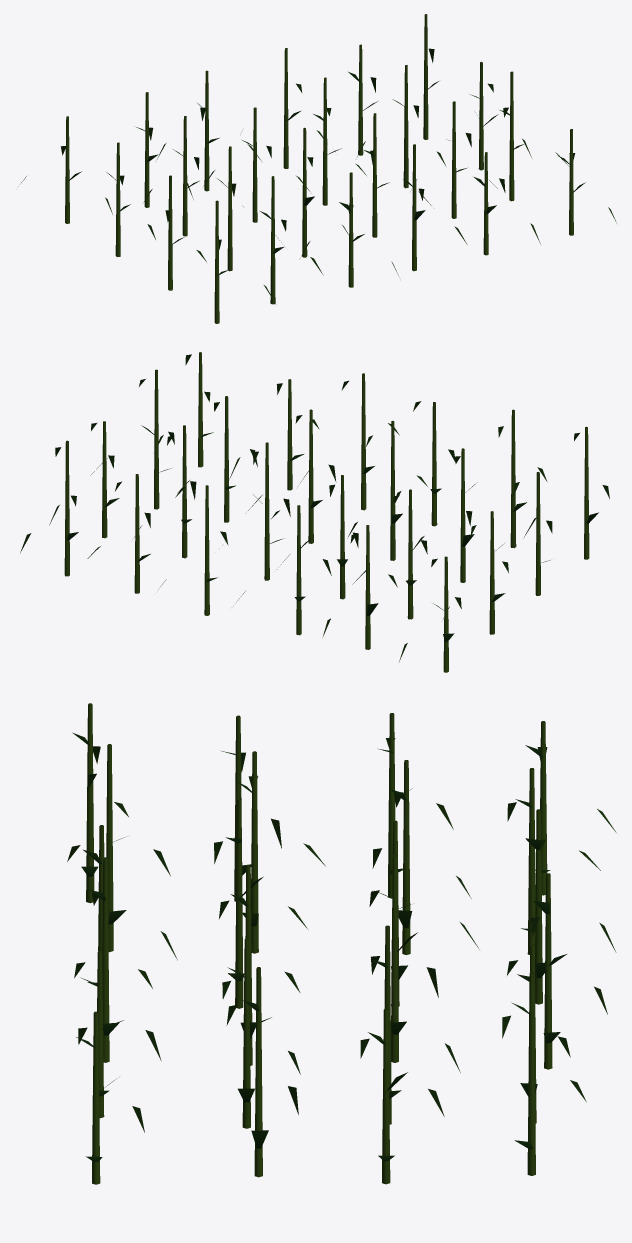
Rendered from fm_maize_2.glb.
3 views of the same model, one above another, from view 1: azimuth 30°, elevation 25°; view 2: azimuth 150°, elevation 25°; view 3: azimuth 270°, elevation 25° (orthographic). The views are drawn at different scales.
Visible parts, largest first — view 1: fm_maize_2; view 2: fm_maize_2; view 3: fm_maize_2.
Boxes of the visible parts, x1,y1,x2,y2 form: fm_maize_2: [18, 14, 616, 323]; fm_maize_2: [20, 352, 609, 672]; fm_maize_2: [67, 703, 616, 1184].
Size of the model in its own units: 4.29 by 1.2 by 3.01.
